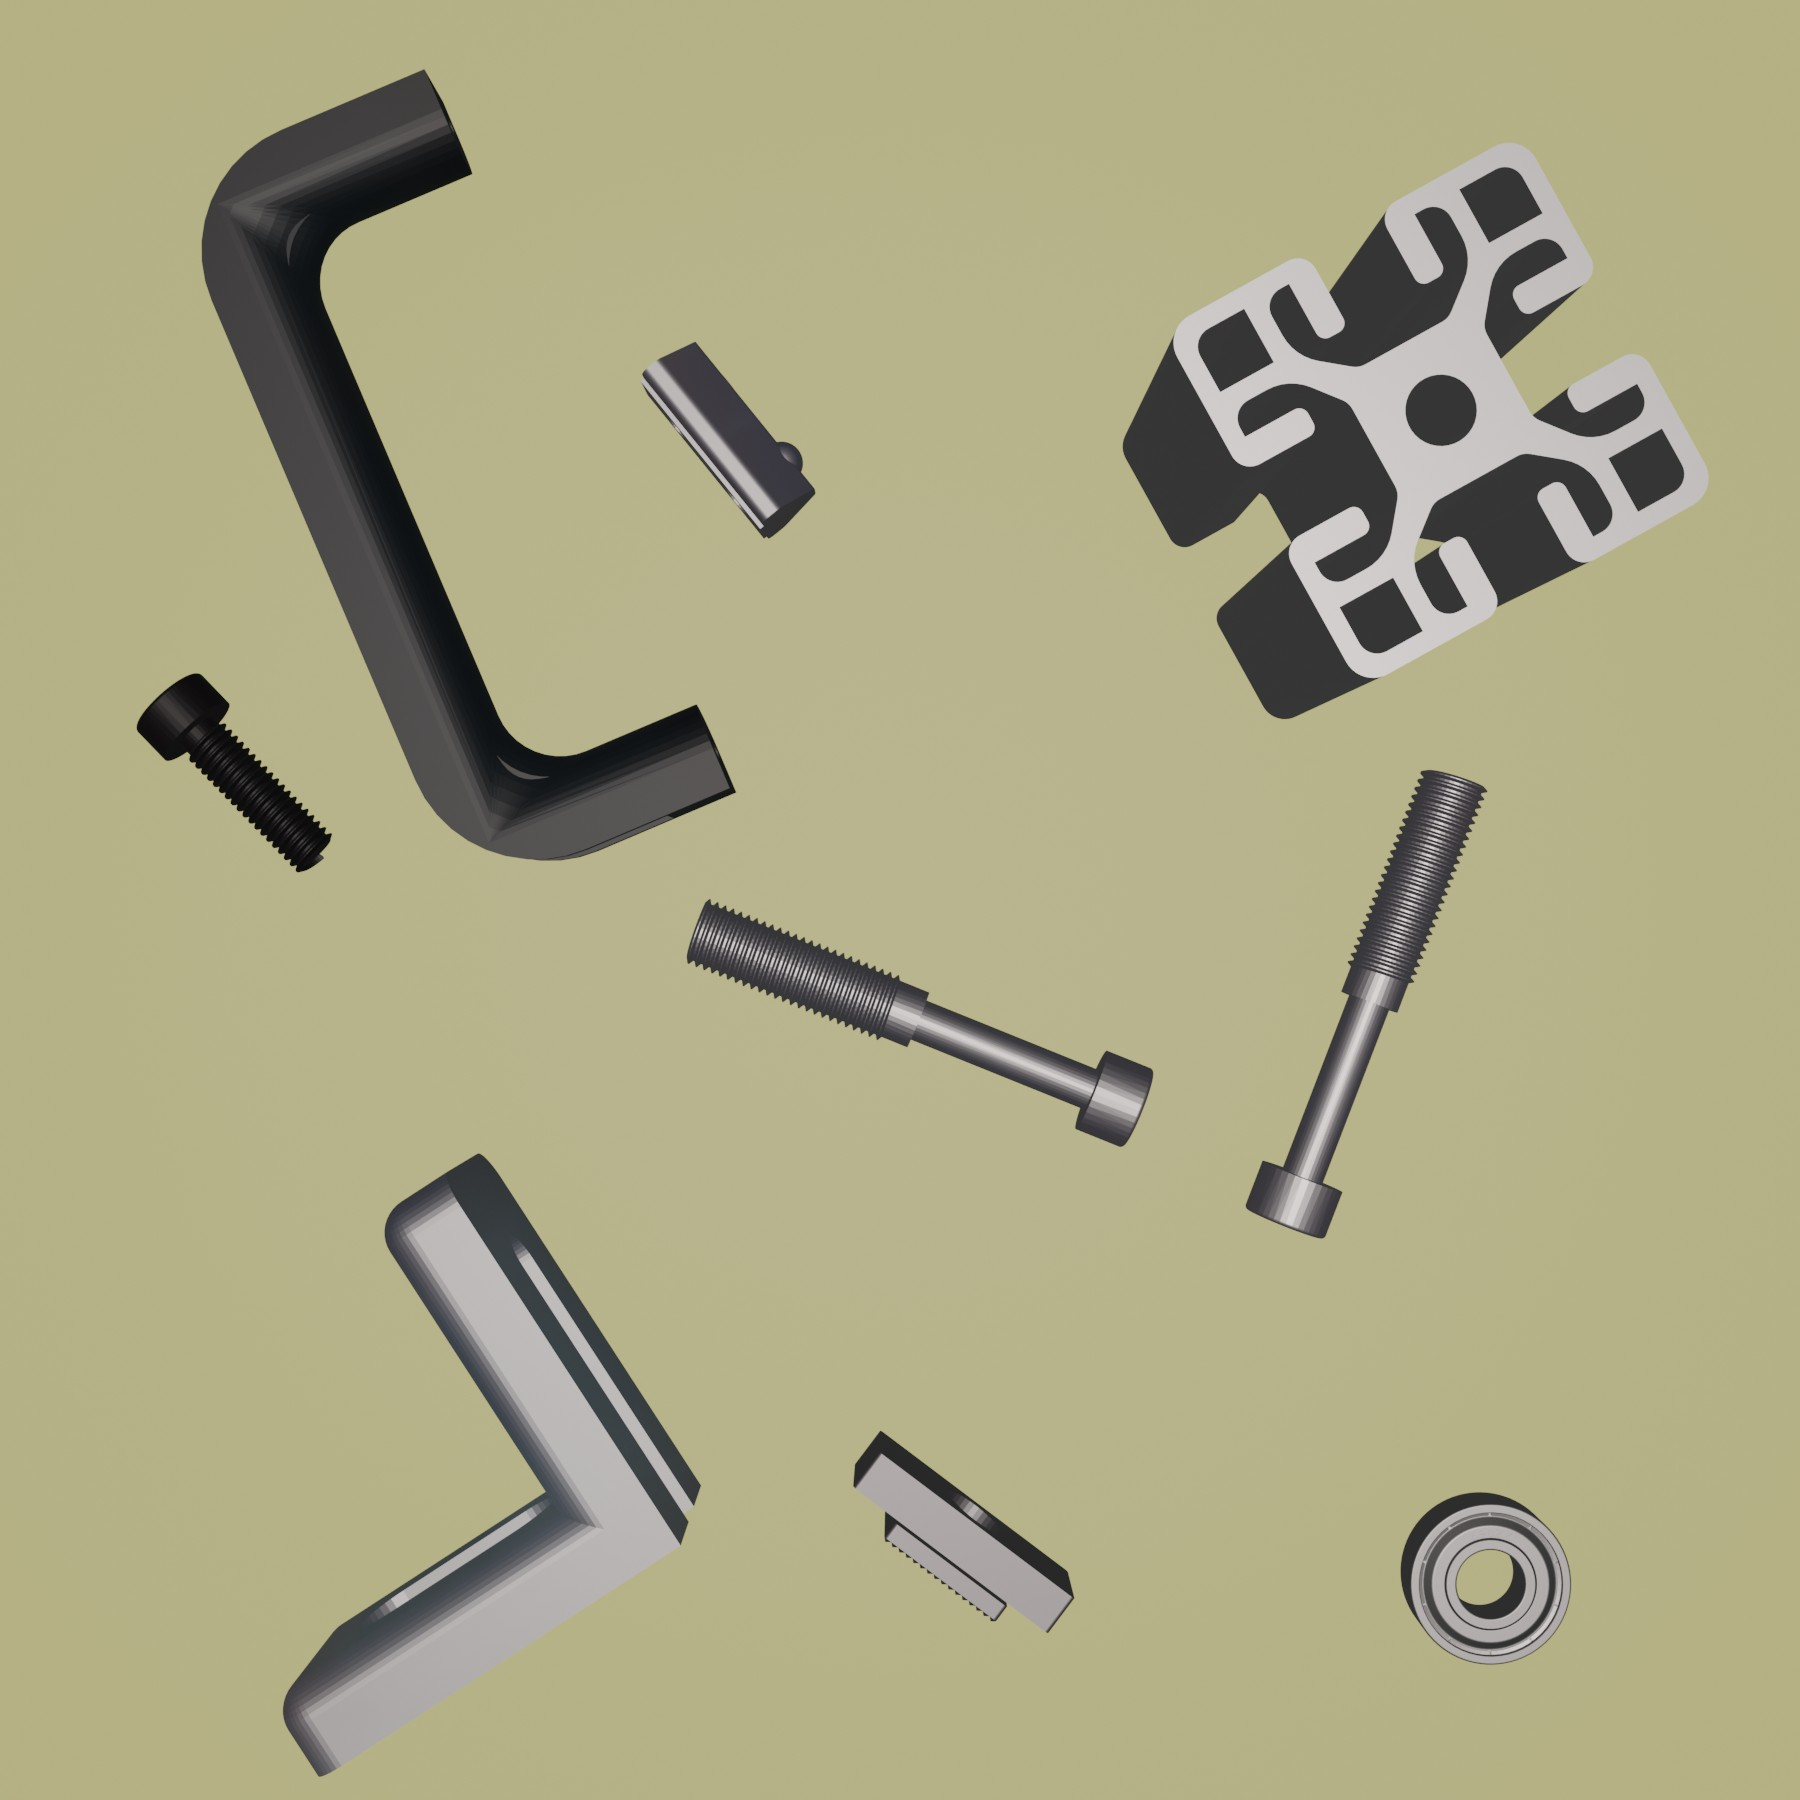Aluminium Extension: (1119, 138, 1713, 724)
Ball Bearing: (1398, 1488, 1574, 1668)
Multiwinkel: (280, 1147, 704, 1777)
Pull Handle: (196, 66, 737, 864)
Shoulder Socket Head Cap Screw: (682, 897, 1155, 1149), (1243, 765, 1488, 1241)
Socket Head Cap Screw: (134, 668, 333, 874)
T Nut Square: (847, 1427, 1076, 1637)
T Spring Nut: (638, 336, 818, 541)
